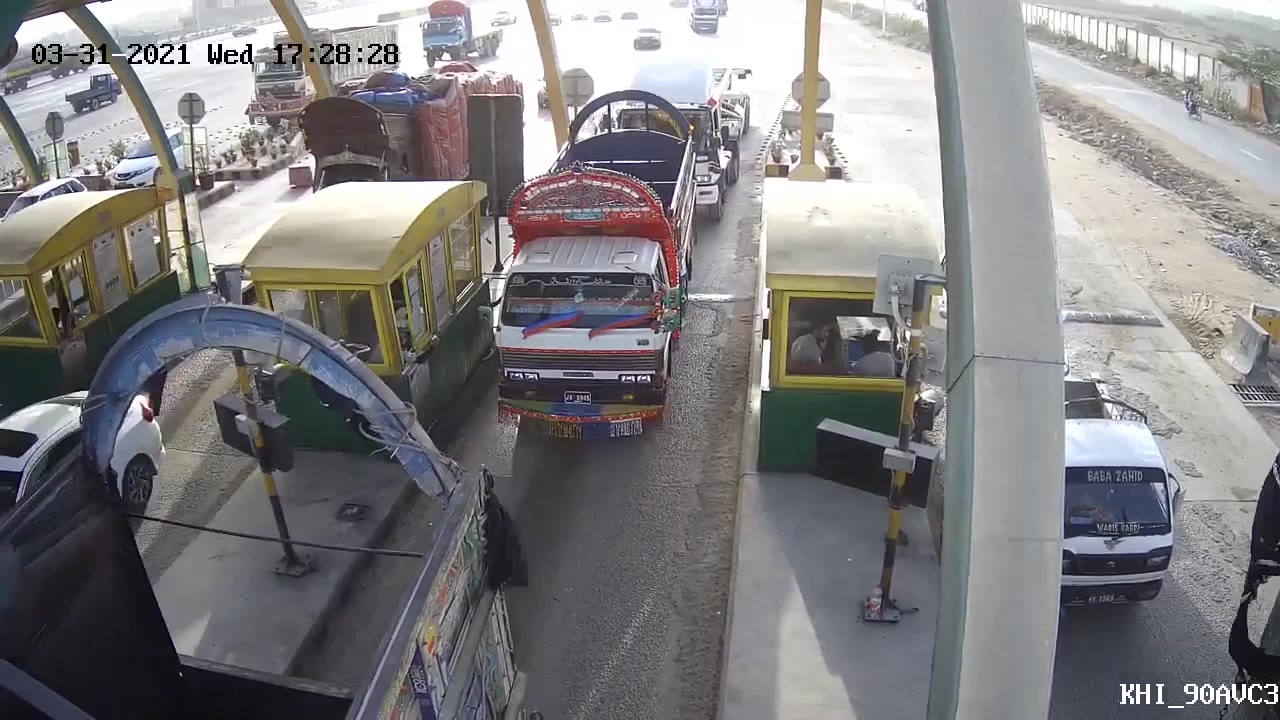F3: (469, 103, 698, 439)
